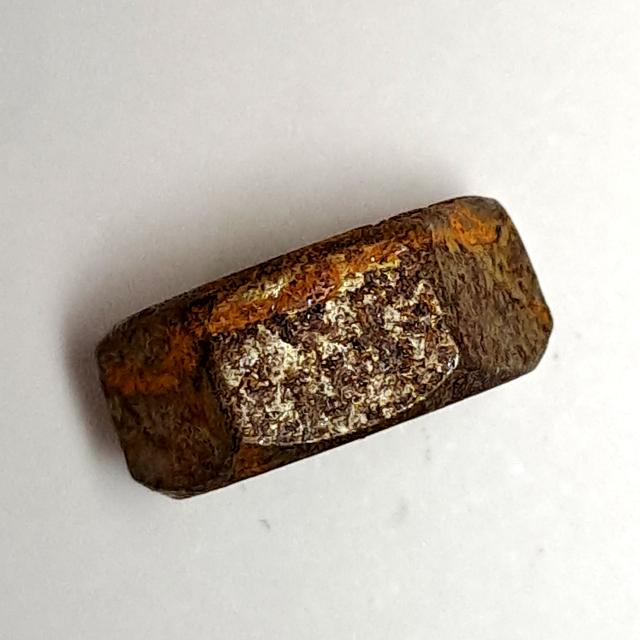Side_Rust: (77, 181, 571, 519)
